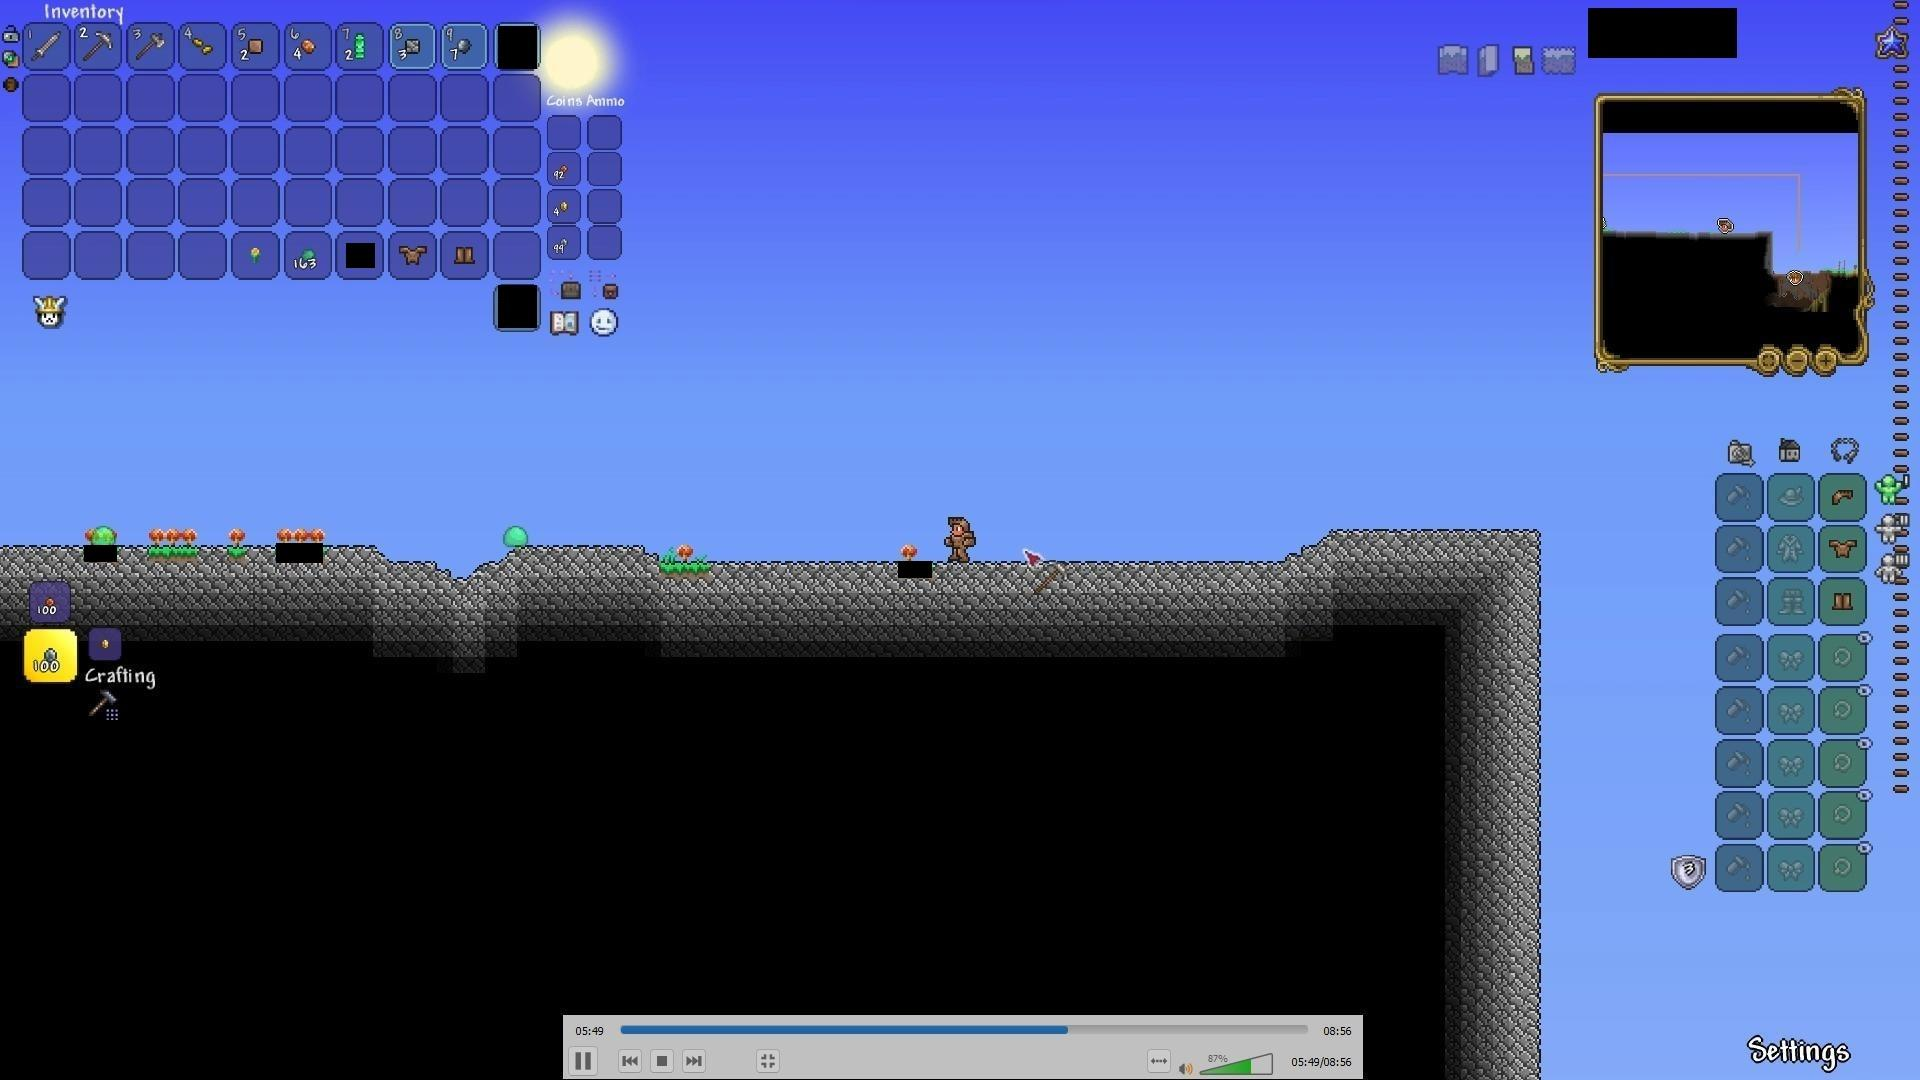breastplate: (397, 243, 429, 262), (1830, 537, 1859, 558)
dirt: (662, 558, 708, 578), (149, 543, 195, 562)
helmet: (1829, 484, 1857, 509)
legs: (1830, 587, 1855, 615), (452, 243, 477, 266)
slime: (84, 518, 121, 545), (502, 520, 531, 547)
